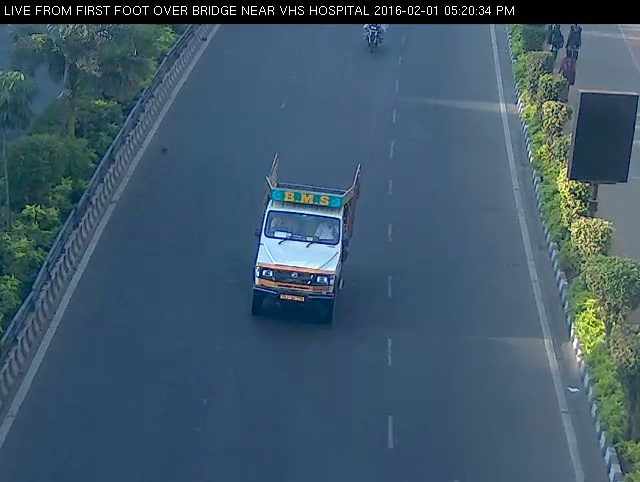Auto: (238, 141, 368, 332)
Person: (356, 18, 396, 59)
